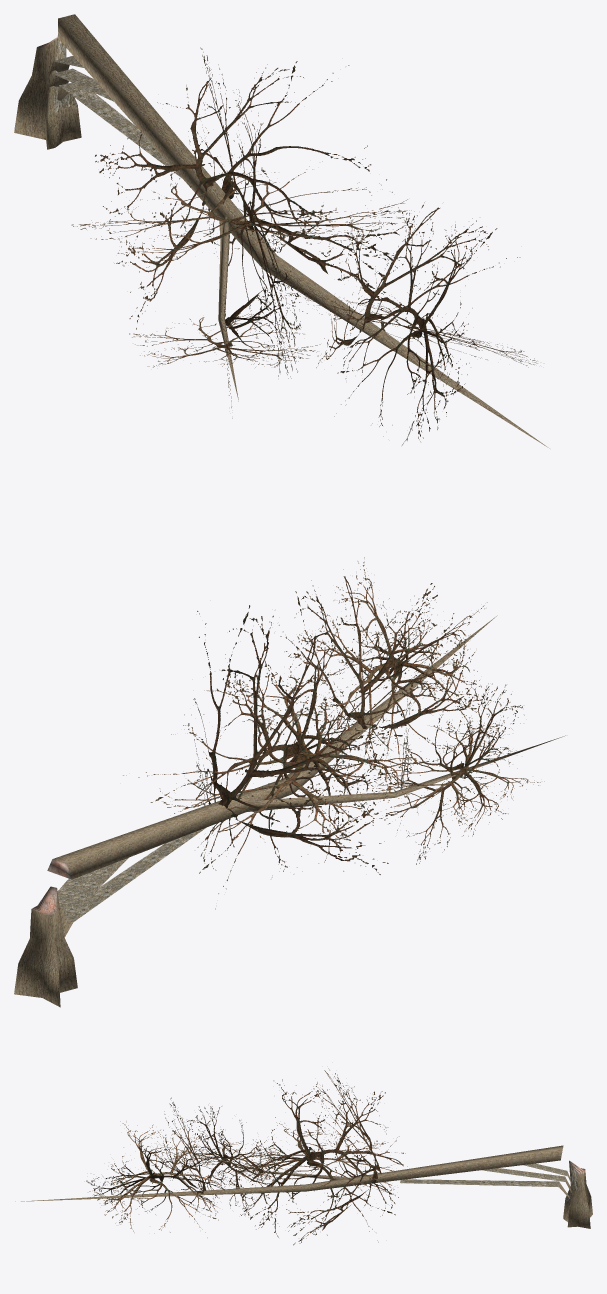
The model's file is decd_maplefallen_l2.fbx.
3 views of the same model, one above another, from view 1: azimuth 30°, elevation 25°; view 2: azimuth 150°, elevation 25°; view 3: azimuth 270°, elevation 25° (orthographic). The views are drawn at different scales.
Visible parts, largest first — view 1: mesh_node; view 2: mesh_node; view 3: mesh_node.
Part boxes in pixels (x1,y1,x2,y2): mesh_node: (14, 14, 549, 448); mesh_node: (14, 557, 565, 1007); mesh_node: (15, 1068, 592, 1245).
Bounding box in the file's own units: 3.46 × 2.84 × 7.46.
